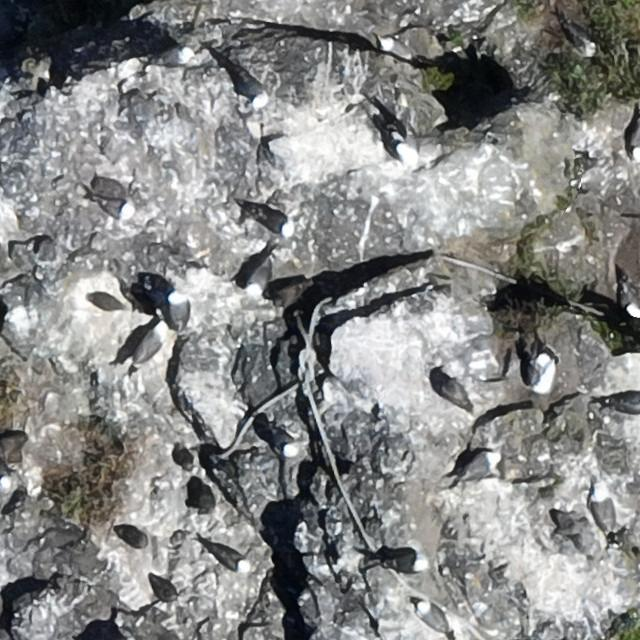umineko: (229, 66, 269, 108), (380, 123, 418, 167), (248, 205, 294, 238), (457, 451, 501, 482), (262, 421, 299, 457), (378, 33, 414, 63), (384, 548, 427, 572), (94, 196, 135, 217), (211, 548, 248, 571), (592, 492, 612, 530), (569, 29, 596, 56), (535, 353, 554, 389), (418, 605, 443, 632), (118, 526, 148, 547), (168, 293, 186, 327), (86, 294, 120, 310), (159, 47, 191, 64), (249, 266, 268, 292), (622, 288, 638, 317), (630, 122, 639, 154)
